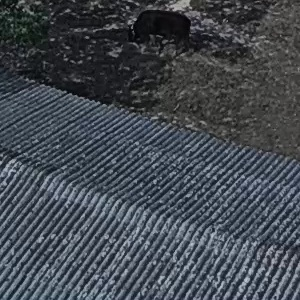cow: (110, 3, 212, 53)
